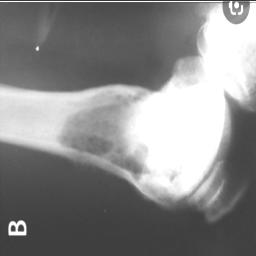cancer: (50, 61, 222, 206)
